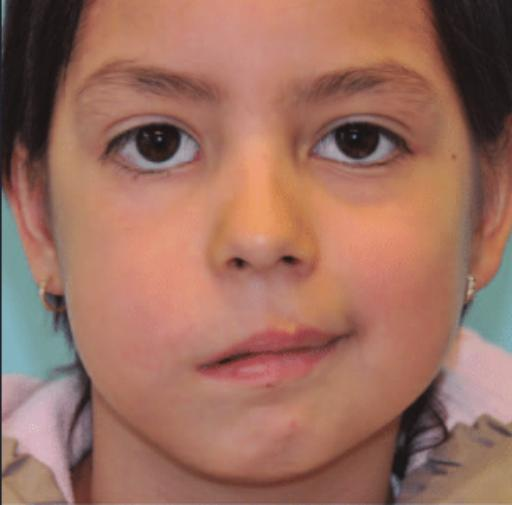left_eye: (306, 117, 416, 171)
left_lip_corner: (334, 324, 361, 348)
right_eye: (100, 118, 205, 179)
right_lip_corner: (183, 355, 216, 380)
